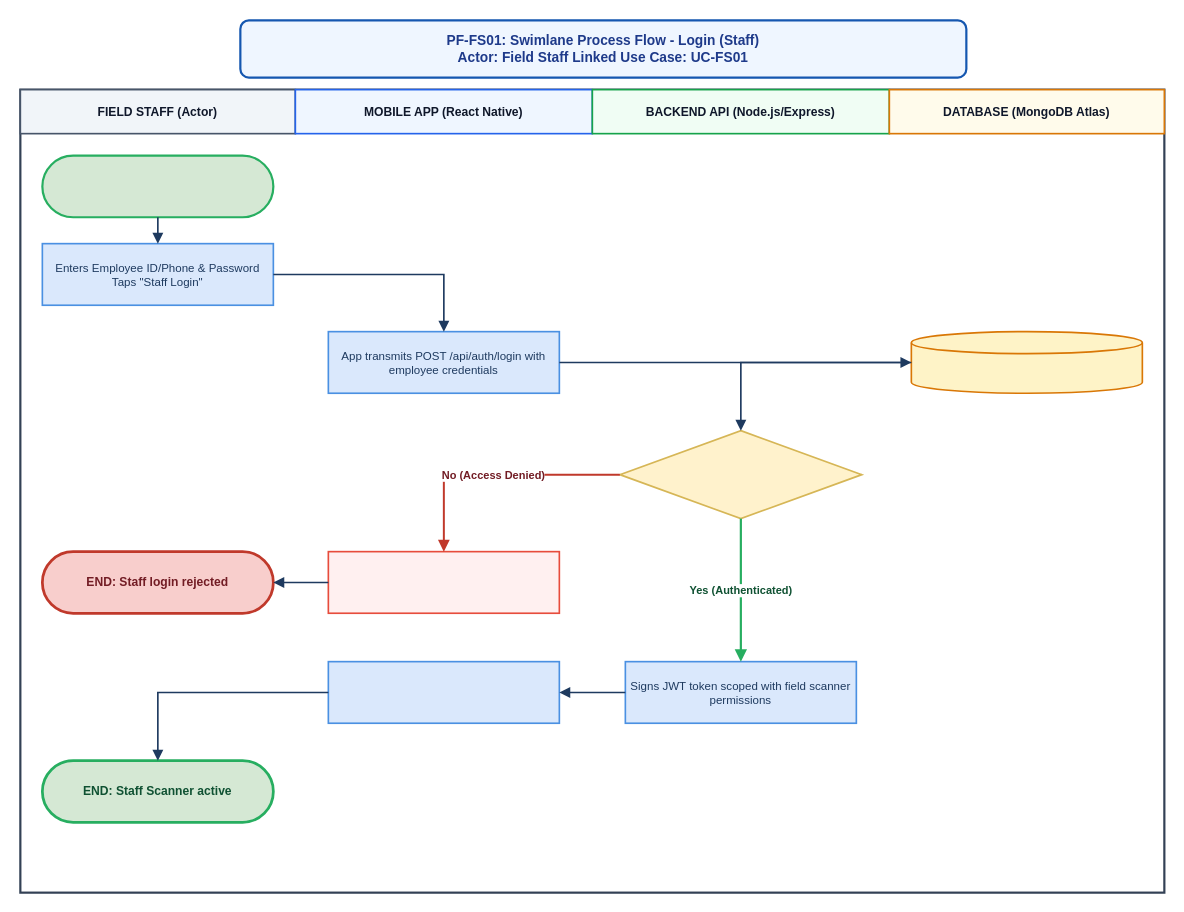
This 1184x912 diagram has some shape labels left out. The shapes that lost their labels are listed below. From the top down, each one's centre as x and y in pixels, then its label:
point 157,186: START: Opens Staff Portal
point 1026,362: MongoDB: Queries User record and checks role = "field_staff"
point 740,474: Password valid & role is field_staff?
point 443,582: Displays "Invalid Staff Credentials" alert banner
point 443,692: Stores auth token in AsyncStorage & opens Scanner Dashboard
